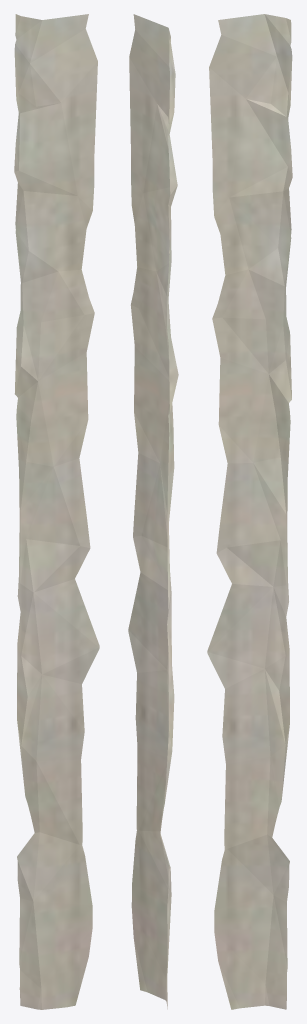
File: Tile__001__005_L21_0003020.glb
3 views of the same model, side by side, from view 1: azimuth 90°, elevation 25°; view 2: azimuth 210°, elevation 25°; view 3: azimuth 270°, elevation 25° (orthographic). The views are drawn at different scales.
Visible parts, largest first — view 1: root; view 2: root; view 3: root.
Boxes of the visible parts, x1,y1,x2,y2 form: root: (14,14,99,1009); root: (128,14,178,1009); root: (207,14,292,1009).
Bounding box in the file's own units: 0.1977 × 14.05 × 1.1.
1 material, 1 textured.
